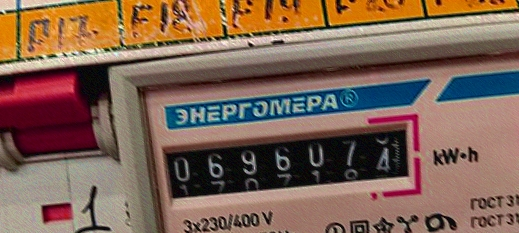0: (170, 152, 193, 182), (306, 137, 327, 167), (206, 149, 225, 177)
4: (373, 144, 393, 173)
6: (271, 140, 292, 171)
7: (339, 135, 360, 165)
9: (239, 145, 259, 175)
screen: (147, 108, 428, 217)
